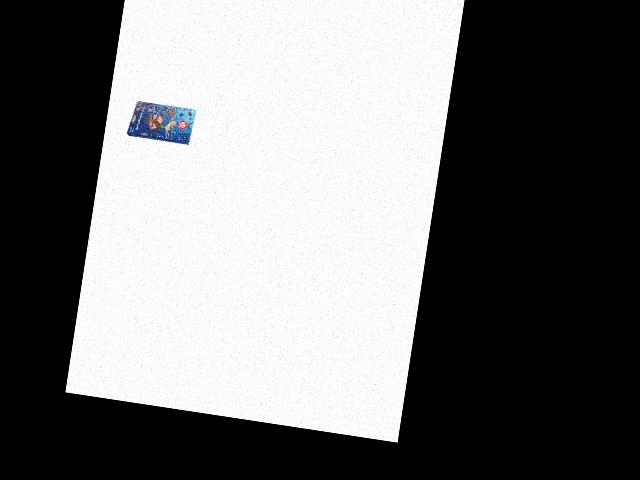chocolate: (125, 95, 198, 149)
